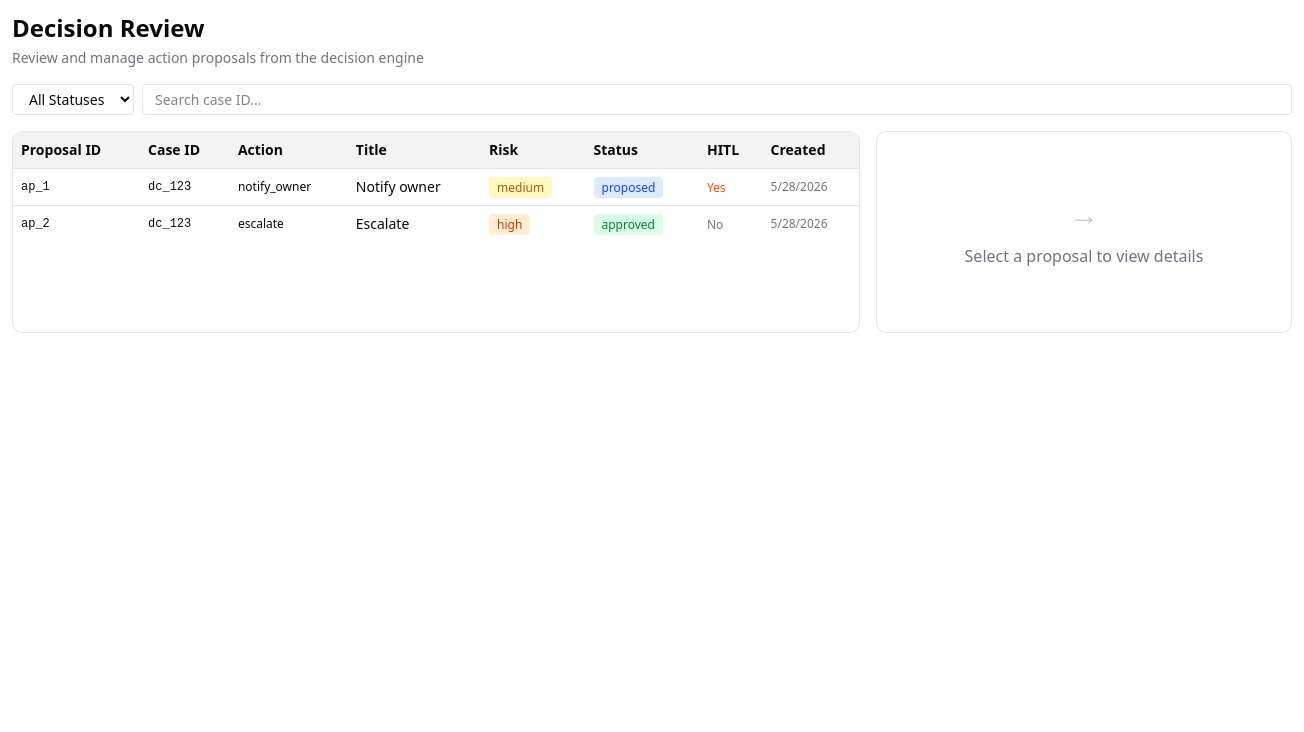
Scenario: DecisionReview › shows review history section even when review fetch is loading
Click the text "notify_owner".
click(289, 187)  # box [230, 168, 348, 206]
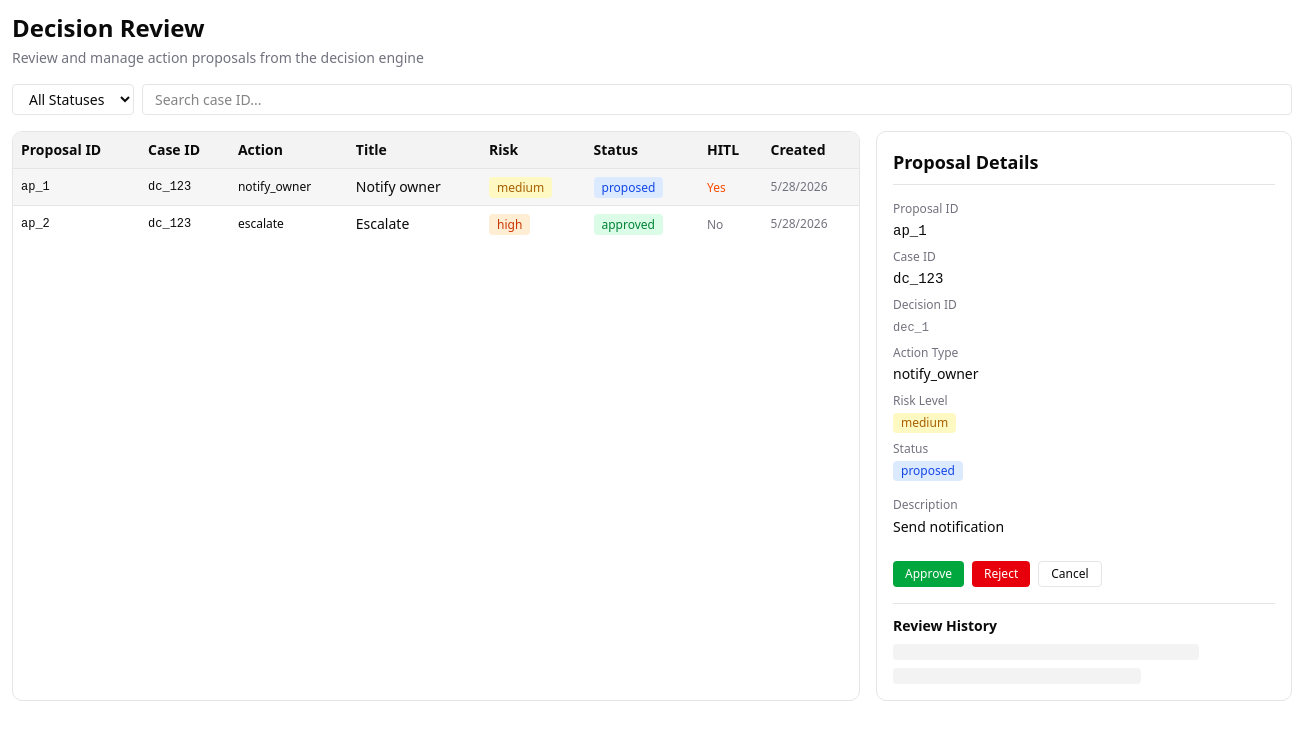
Now the heading "Review History" is shown, box [893, 616, 997, 635]
